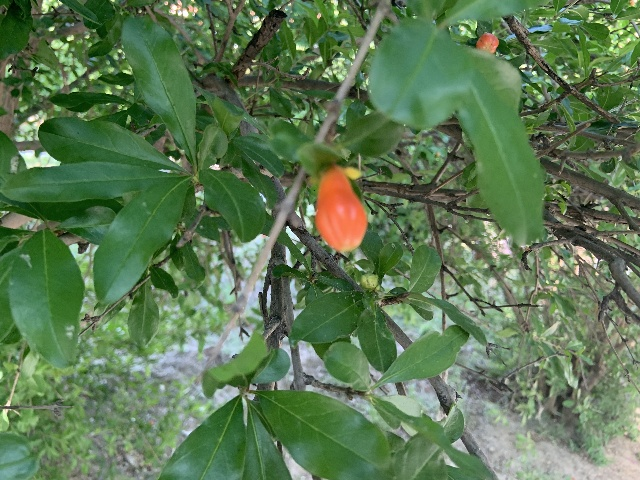bud: (314, 166, 367, 253), (476, 32, 499, 53), (360, 273, 377, 289)
